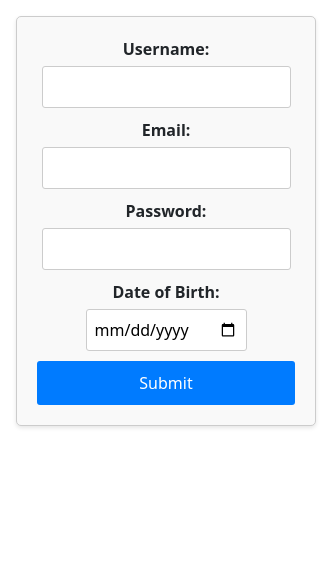
Test case: Registration form incorrect data functionality › should display validation errors for empty fields
Click the submit button at (166, 383), box [37,361,295,405]
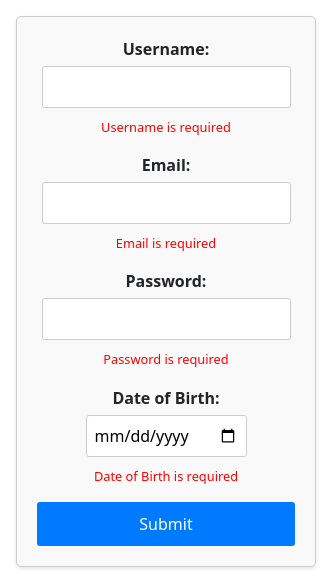
Expected: the text with class "error" reads "Username is required", [101,118,231,136]
Expected: the text with class "error" reads "Email is required", [116,234,216,252]
Expected: the text with class "error" reads "Password is required", [103,350,228,368]
